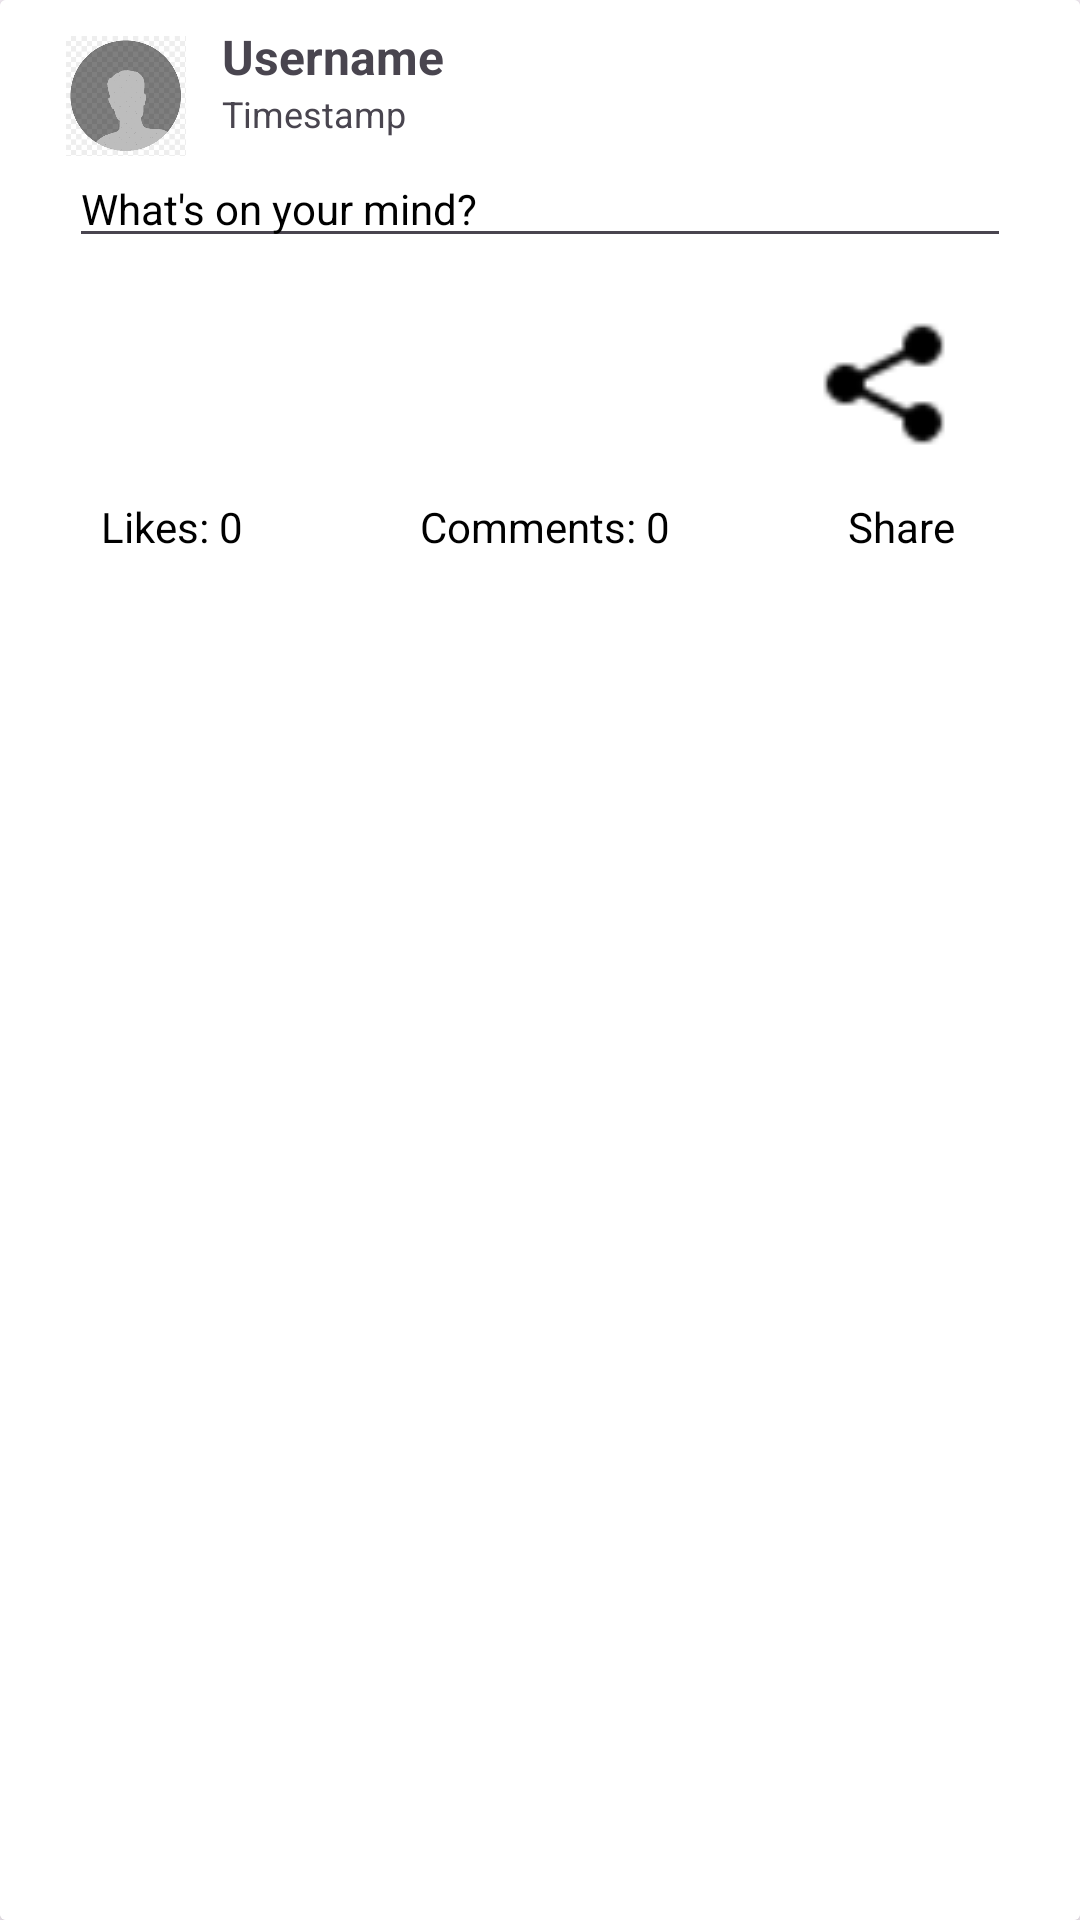

Icon bounding boxes for this 1080px x 1920px phone screenshot, format (x1, y1, x2, y2):
defaultpic: (70, 40, 181, 151)
